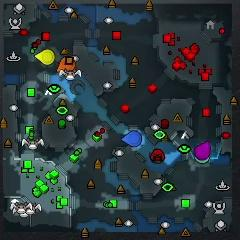p1: (121, 130, 141, 147)
p2: (195, 156, 210, 163)
p3: (194, 141, 209, 159)
p4: (35, 49, 55, 65)
p5: (58, 58, 76, 74)
